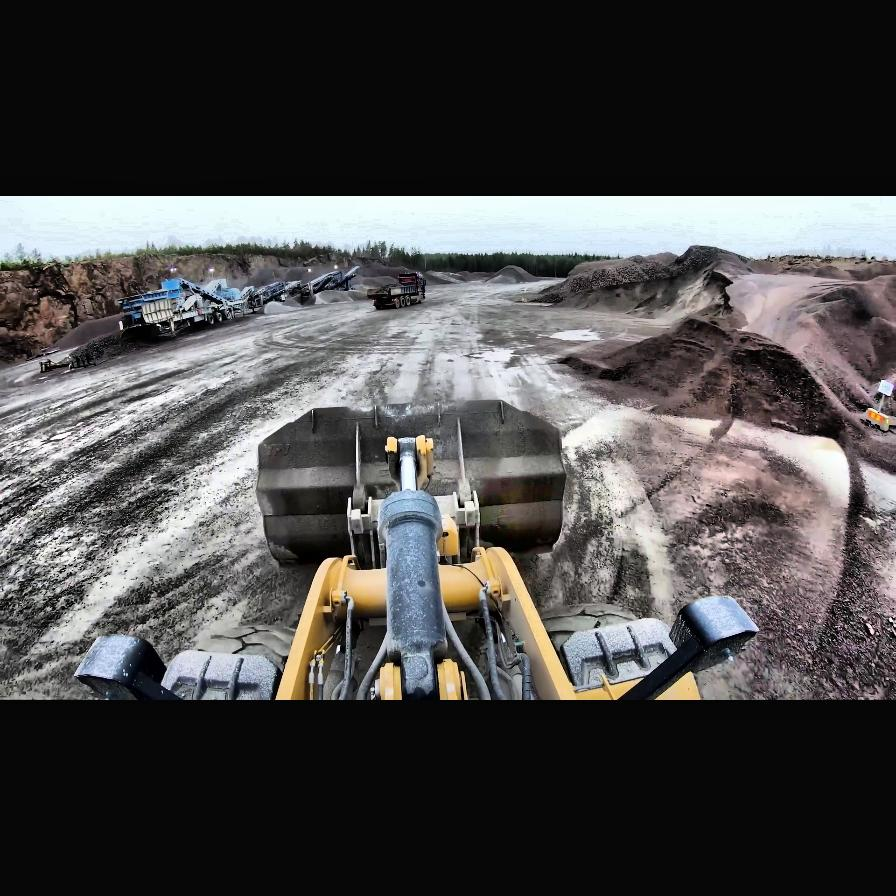anchor: (386, 435, 434, 494)
pile of gravel: (568, 314, 862, 448), (551, 245, 741, 321), (482, 265, 544, 285), (306, 290, 362, 304), (256, 301, 304, 313), (424, 270, 464, 284), (293, 292, 317, 304)
